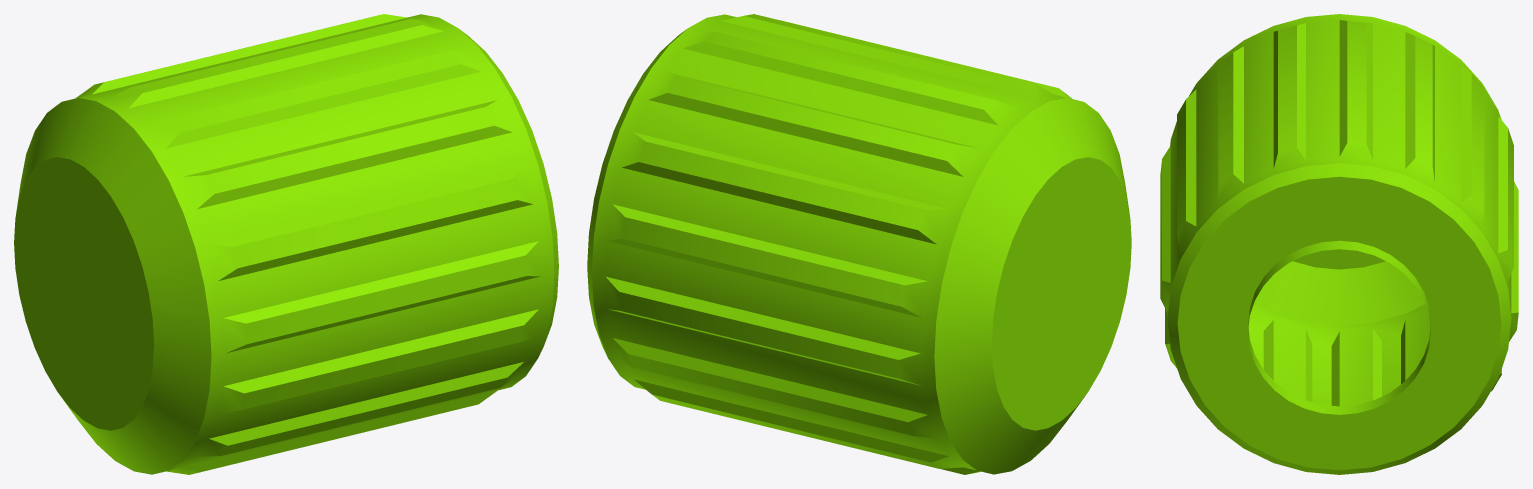
Rendered from KnobL.glb.
3 views of the same model, side by side, from view 1: azimuth 30°, elevation 25°; view 2: azimuth 150°, elevation 25°; view 3: azimuth 270°, elevation 25° (orthographic). The views are drawn at different scales.
Parts seen in each view (by area): view 1: Knob.004; view 2: Knob.004; view 3: Knob.004.
Part boxes in pixels (box(x1,y1,x2,y2)): Knob.004: box(14, 14, 558, 474); Knob.004: box(587, 14, 1131, 474); Knob.004: box(1160, 14, 1518, 474).
Bounding box in the file's own units: 0.1617 × 0.1394 × 0.1394.
